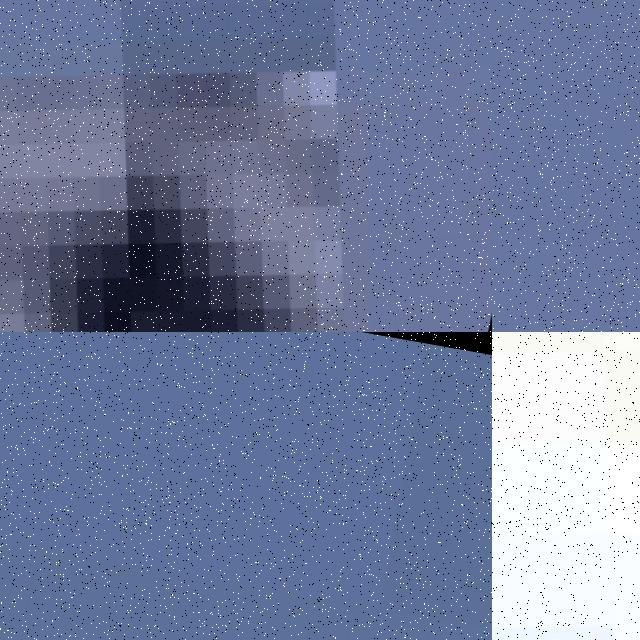drone: (0, 0, 492, 332), (492, 332, 640, 640)
